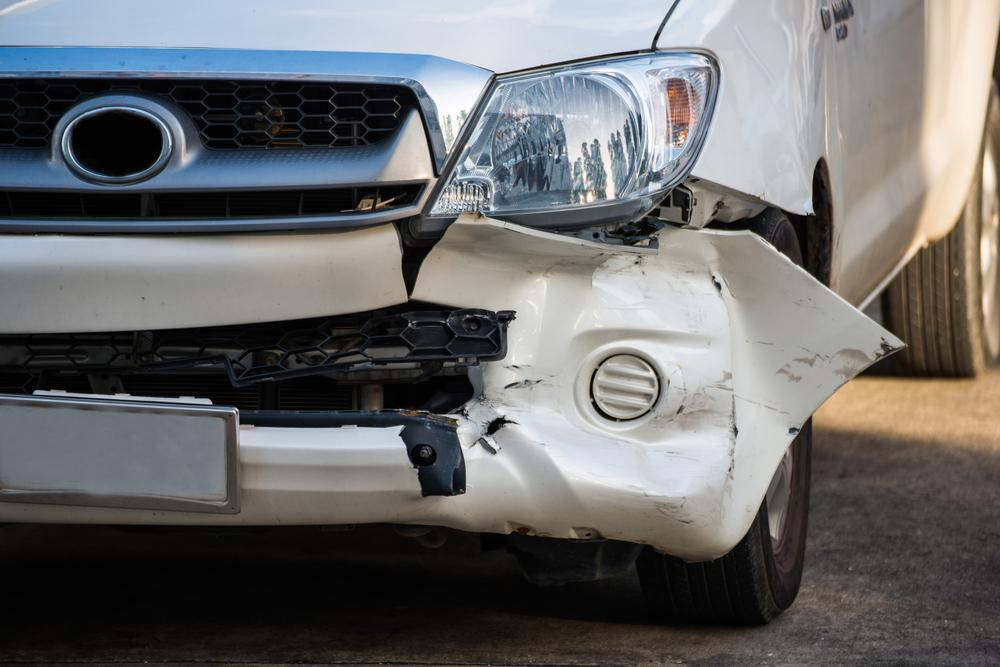crack: (390, 215, 461, 302), (483, 415, 523, 437)
dent: (493, 234, 735, 494)
